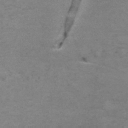finishing roll printing: (56, 0, 82, 50)
